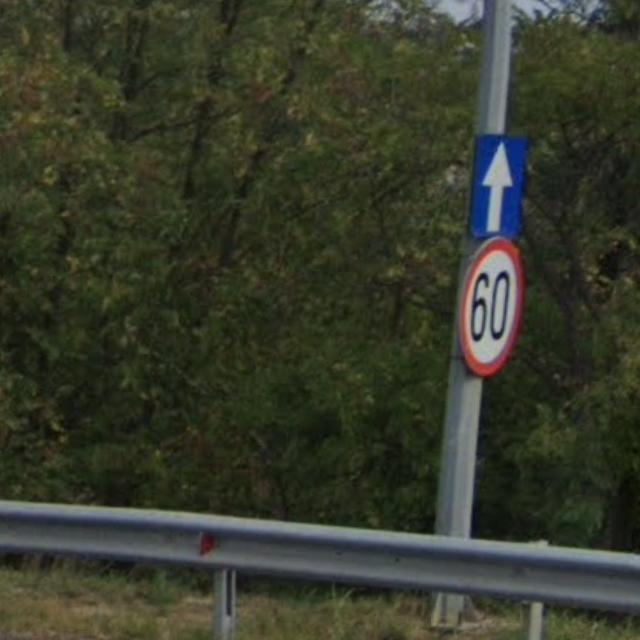forb_speed_over_60: (457, 236, 524, 374)
